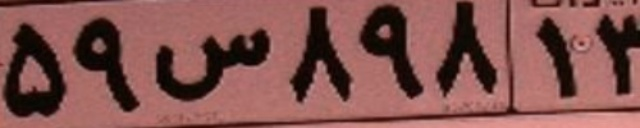1: (534, 16, 578, 98)
3: (594, 12, 638, 95)
5: (2, 22, 66, 118)
8: (292, 6, 357, 102), (436, 1, 499, 95)
9: (72, 14, 141, 112), (360, 5, 424, 98)
sin: (150, 26, 272, 101)
